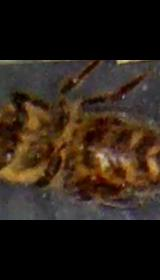varroa_mite: (84, 173, 104, 191)
